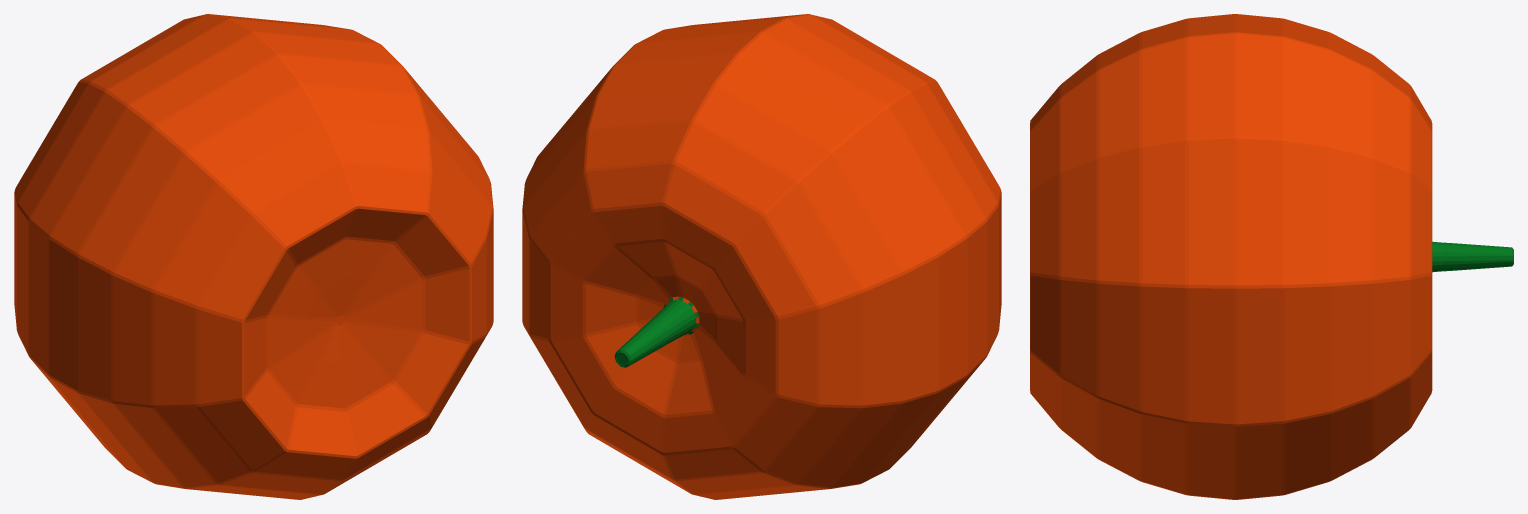
Rendered from fruit.fbx.
The picture shows the model from 3 angles, left to right: view 1: azimuth 30°, elevation 25°; view 2: azimuth 150°, elevation 25°; view 3: azimuth 270°, elevation 25°; orthographic projection.
Visible parts, largest first — view 1: Sphere; view 2: Sphere; view 3: Sphere.
Boxes of the visible parts, x1=… form: Sphere: x1=14, y1=14, x2=493, y2=499; Sphere: x1=522, y1=14, x2=1001, y2=499; Sphere: x1=1030, y1=14, x2=1513, y2=499.
Bounding box in the file's own units: 9.5 × 9.97 × 9.76.
